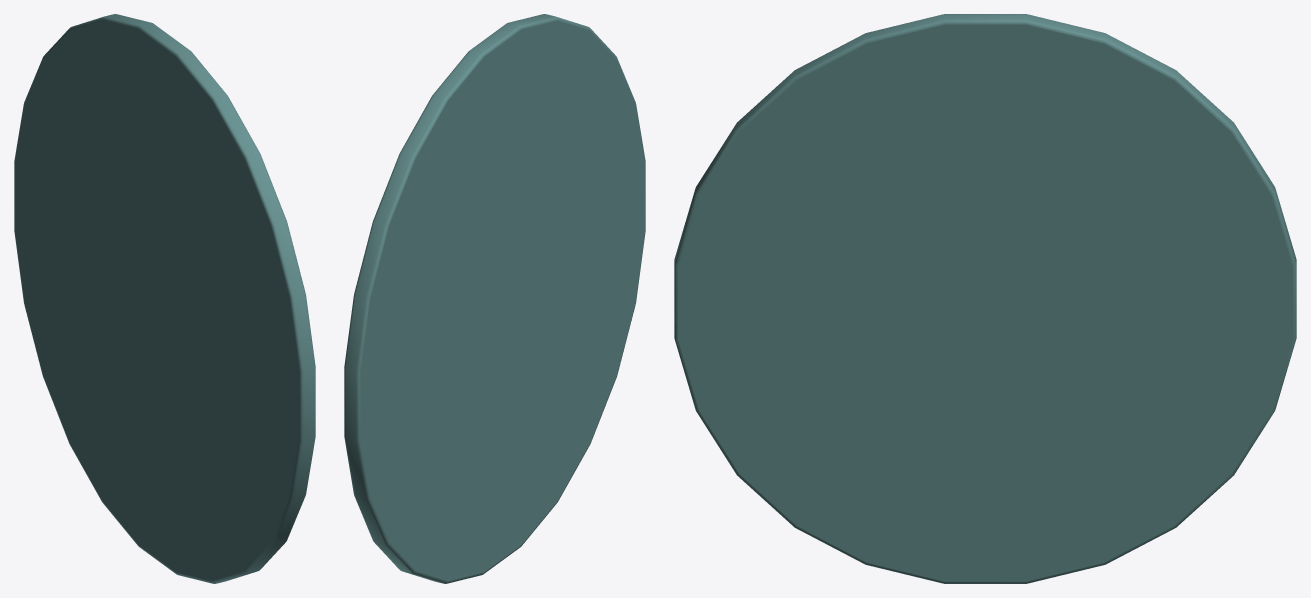
File: dangban02.FBX
3 views of the same model, side by side, from view 1: azimuth 30°, elevation 25°; view 2: azimuth 150°, elevation 25°; view 3: azimuth 270°, elevation 25° (orthographic). The views are drawn at different scales.
Visible parts, largest first — view 1: fj-19; view 2: fj-19; view 3: fj-19.
Part boxes in pixels (bbox=[...]): fj-19: bbox=[14, 14, 315, 583]; fj-19: bbox=[344, 14, 645, 583]; fj-19: bbox=[674, 14, 1296, 583].
Bounding box in the file's own units: 8.14 × 256 × 256.
